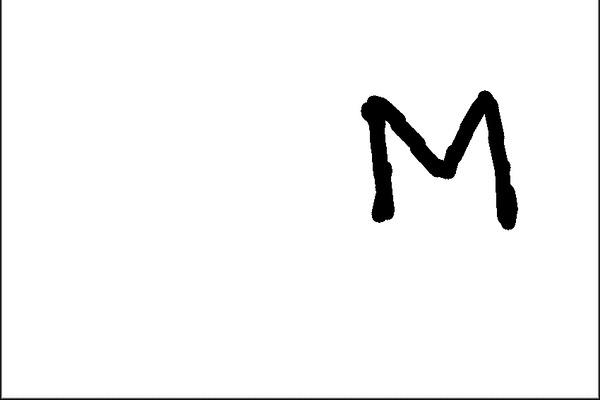M: (351, 87, 525, 230)
